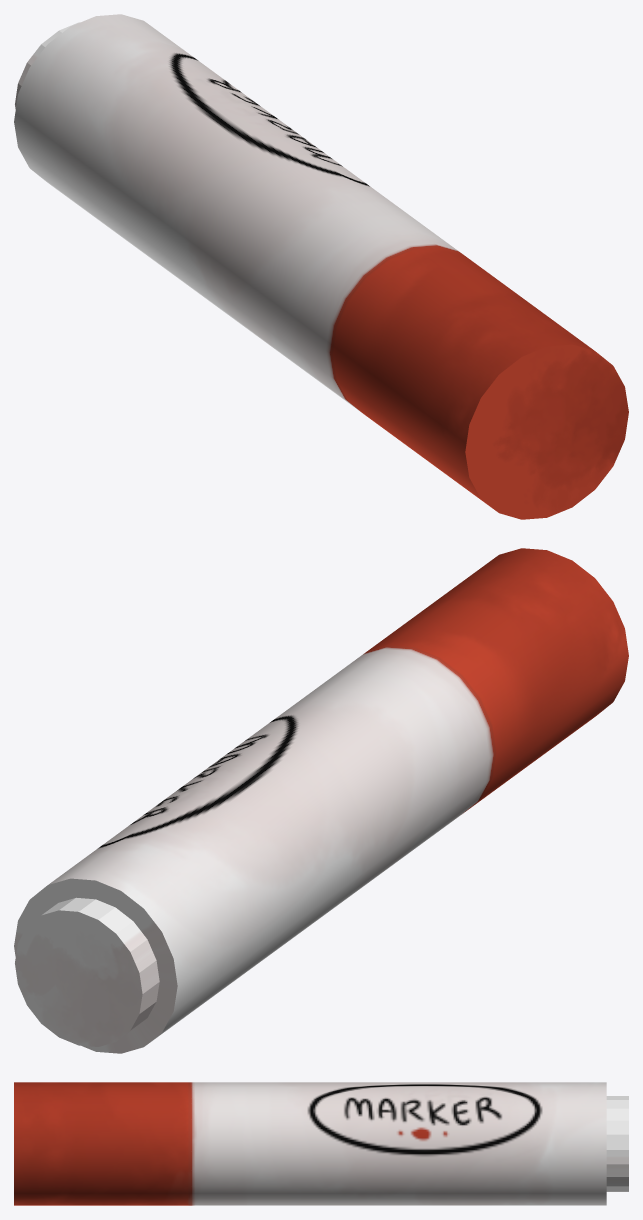
Rendered from WhiteboardPen.fbx.
The picture shows the model from 3 angles, top to bottom: view 1: azimuth 30°, elevation 25°; view 2: azimuth 150°, elevation 25°; view 3: azimuth 270°, elevation 25°; orthographic projection. The views are drawn at different scales.
Visible parts, largest first — view 1: WhiteboardPen; view 2: WhiteboardPen; view 3: WhiteboardPen.
Boxes of the visible parts, box(x1,y1,x2,y2) form: WhiteboardPen: box(14, 14, 628, 519); WhiteboardPen: box(14, 548, 628, 1053); WhiteboardPen: box(14, 1082, 628, 1205).
Size of the model in its own units: 1.47 by 1.47 by 7.29.
1 material, 1 textured.
